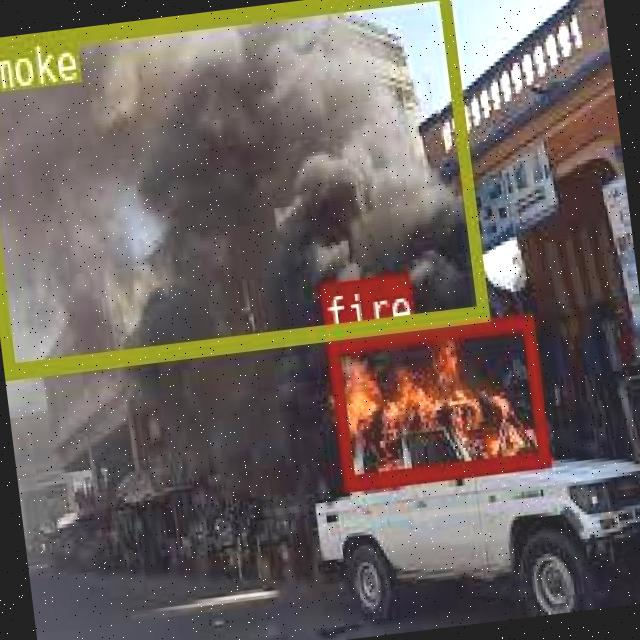fire: (324, 312, 547, 487)
smoke: (0, 0, 487, 374)
